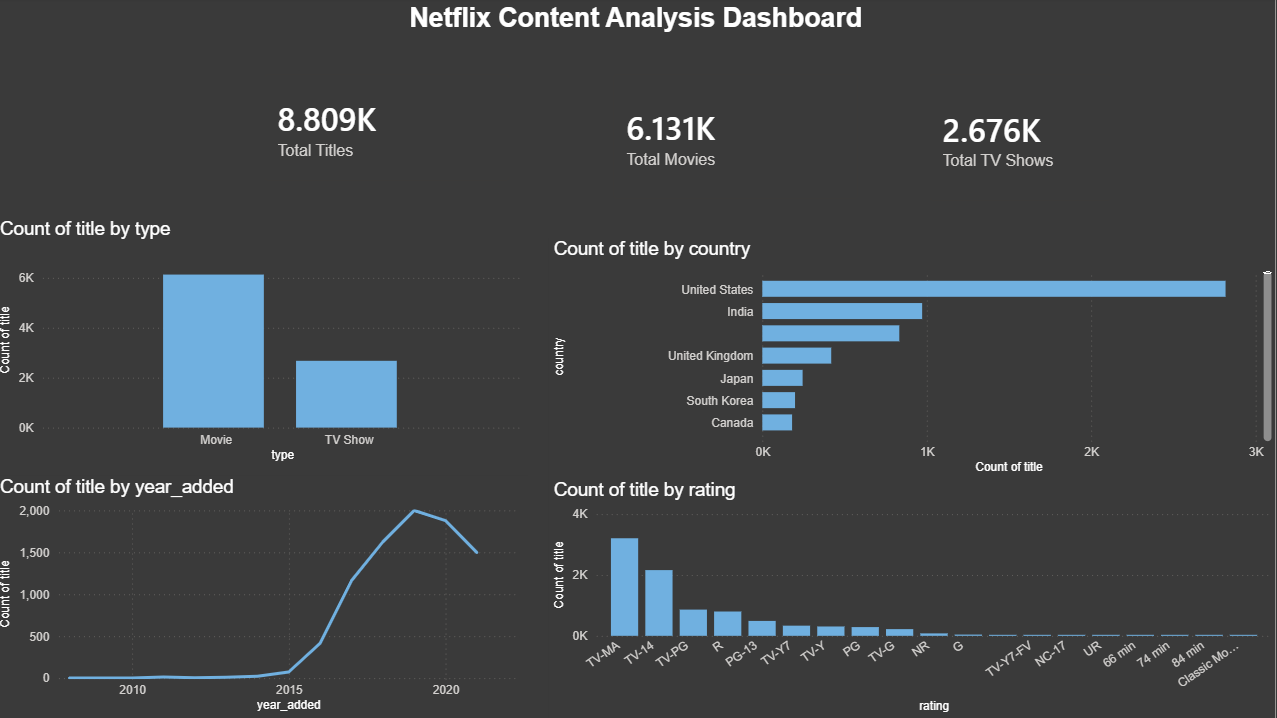

The page's visual inventory and layout, read from the dashboard file:
{"tool":"powerbi","page":{"name":"Interactive Dashboard","canvas":[1280,720],"ordinal":0},"visuals":[{"type":"cardVisual","title":"Total Titles","fields":{"Data":["CountNonNull(netflix_cleaned.title)"]},"box":[252.5,59.8,279.4,141.9],"z":0},{"type":"cardVisual","fields":{"Data":["CountNonNull(netflix_cleaned.title)"]},"box":[600.6,59.8,279.4,159.9],"z":1},{"type":"cardVisual","fields":{"Data":["CountNonNull(netflix_cleaned.title)"]},"box":[917.3,59.8,216.6,161.3],"z":2},{"type":"clusteredColumnChart","fields":{"Category":["netflix_cleaned.type"],"Y":["CountNonNull(netflix_cleaned.title)"]},"box":[0,221.1,531.8,248],"z":3},{"type":"clusteredBarChart","fields":{"Category":["netflix_cleaned.country"],"Y":["CountNonNull(netflix_cleaned.title)"]},"box":[552.8,240.5,727.5,240.5],"z":4},{"type":"lineChart","fields":{"Category":["netflix_cleaned.year_added"],"Y":["CountNonNull(netflix_cleaned.title)"]},"box":[0,479,532,241],"z":5},{"type":"clusteredColumnChart","fields":{"Category":["netflix_cleaned.rating"],"Y":["CountNonNull(netflix_cleaned.title)"]},"box":[553,482,727,238],"z":6},{"type":"textbox","box":[0,1.5,1280.3,58.3],"z":7}]}

Visuals, with their boxes in screenshot pixels (x1, y1, x2, y2), scaled from the page's 1280x720 canvas onto the 1277x718 screenshot:
"Total Titles" cardVisual: (252,60,531,201)
cardVisual - CountNonNull(netflix_cleaned.title): (599,60,878,219)
cardVisual - CountNonNull(netflix_cleaned.title): (915,60,1131,220)
clusteredColumnChart - netflix_cleaned.type x CountNonNull(netflix_cleaned.title): (0,220,531,468)
clusteredBarChart - netflix_cleaned.country x CountNonNull(netflix_cleaned.title): (552,240,1276,480)
lineChart - netflix_cleaned.year_added x CountNonNull(netflix_cleaned.title): (0,478,531,717)
clusteredColumnChart - netflix_cleaned.rating x CountNonNull(netflix_cleaned.title): (552,481,1276,717)
textbox: (0,1,1276,60)
